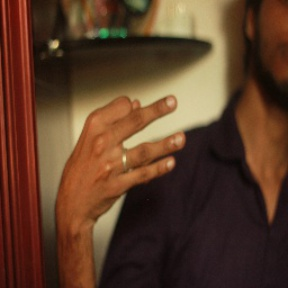K: (65, 92, 186, 208)
